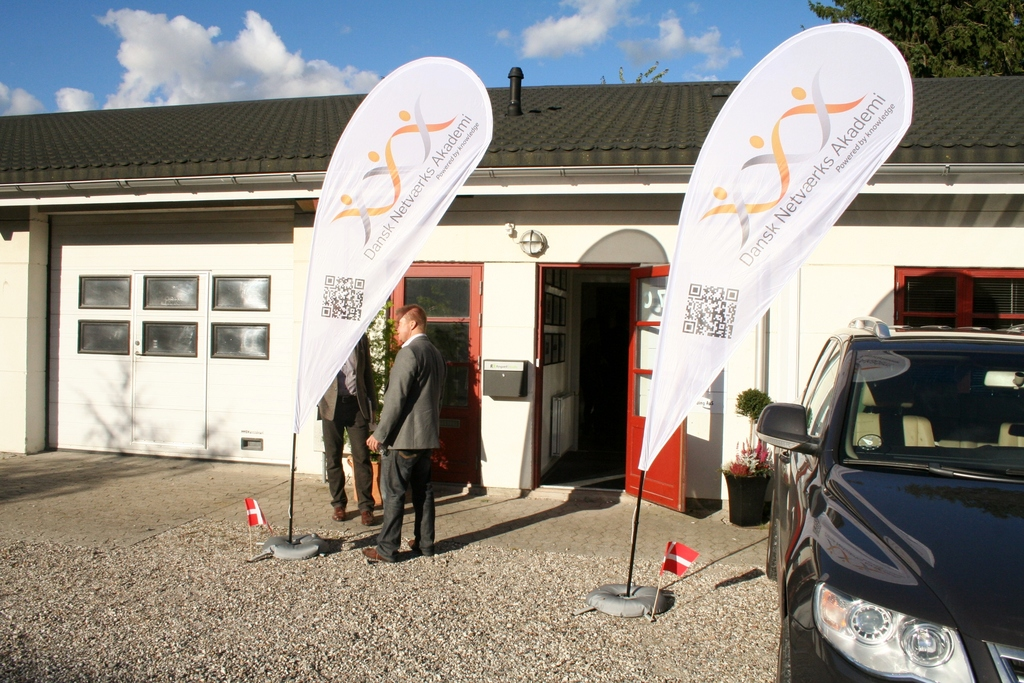Tree: (811, 1, 1021, 73)
